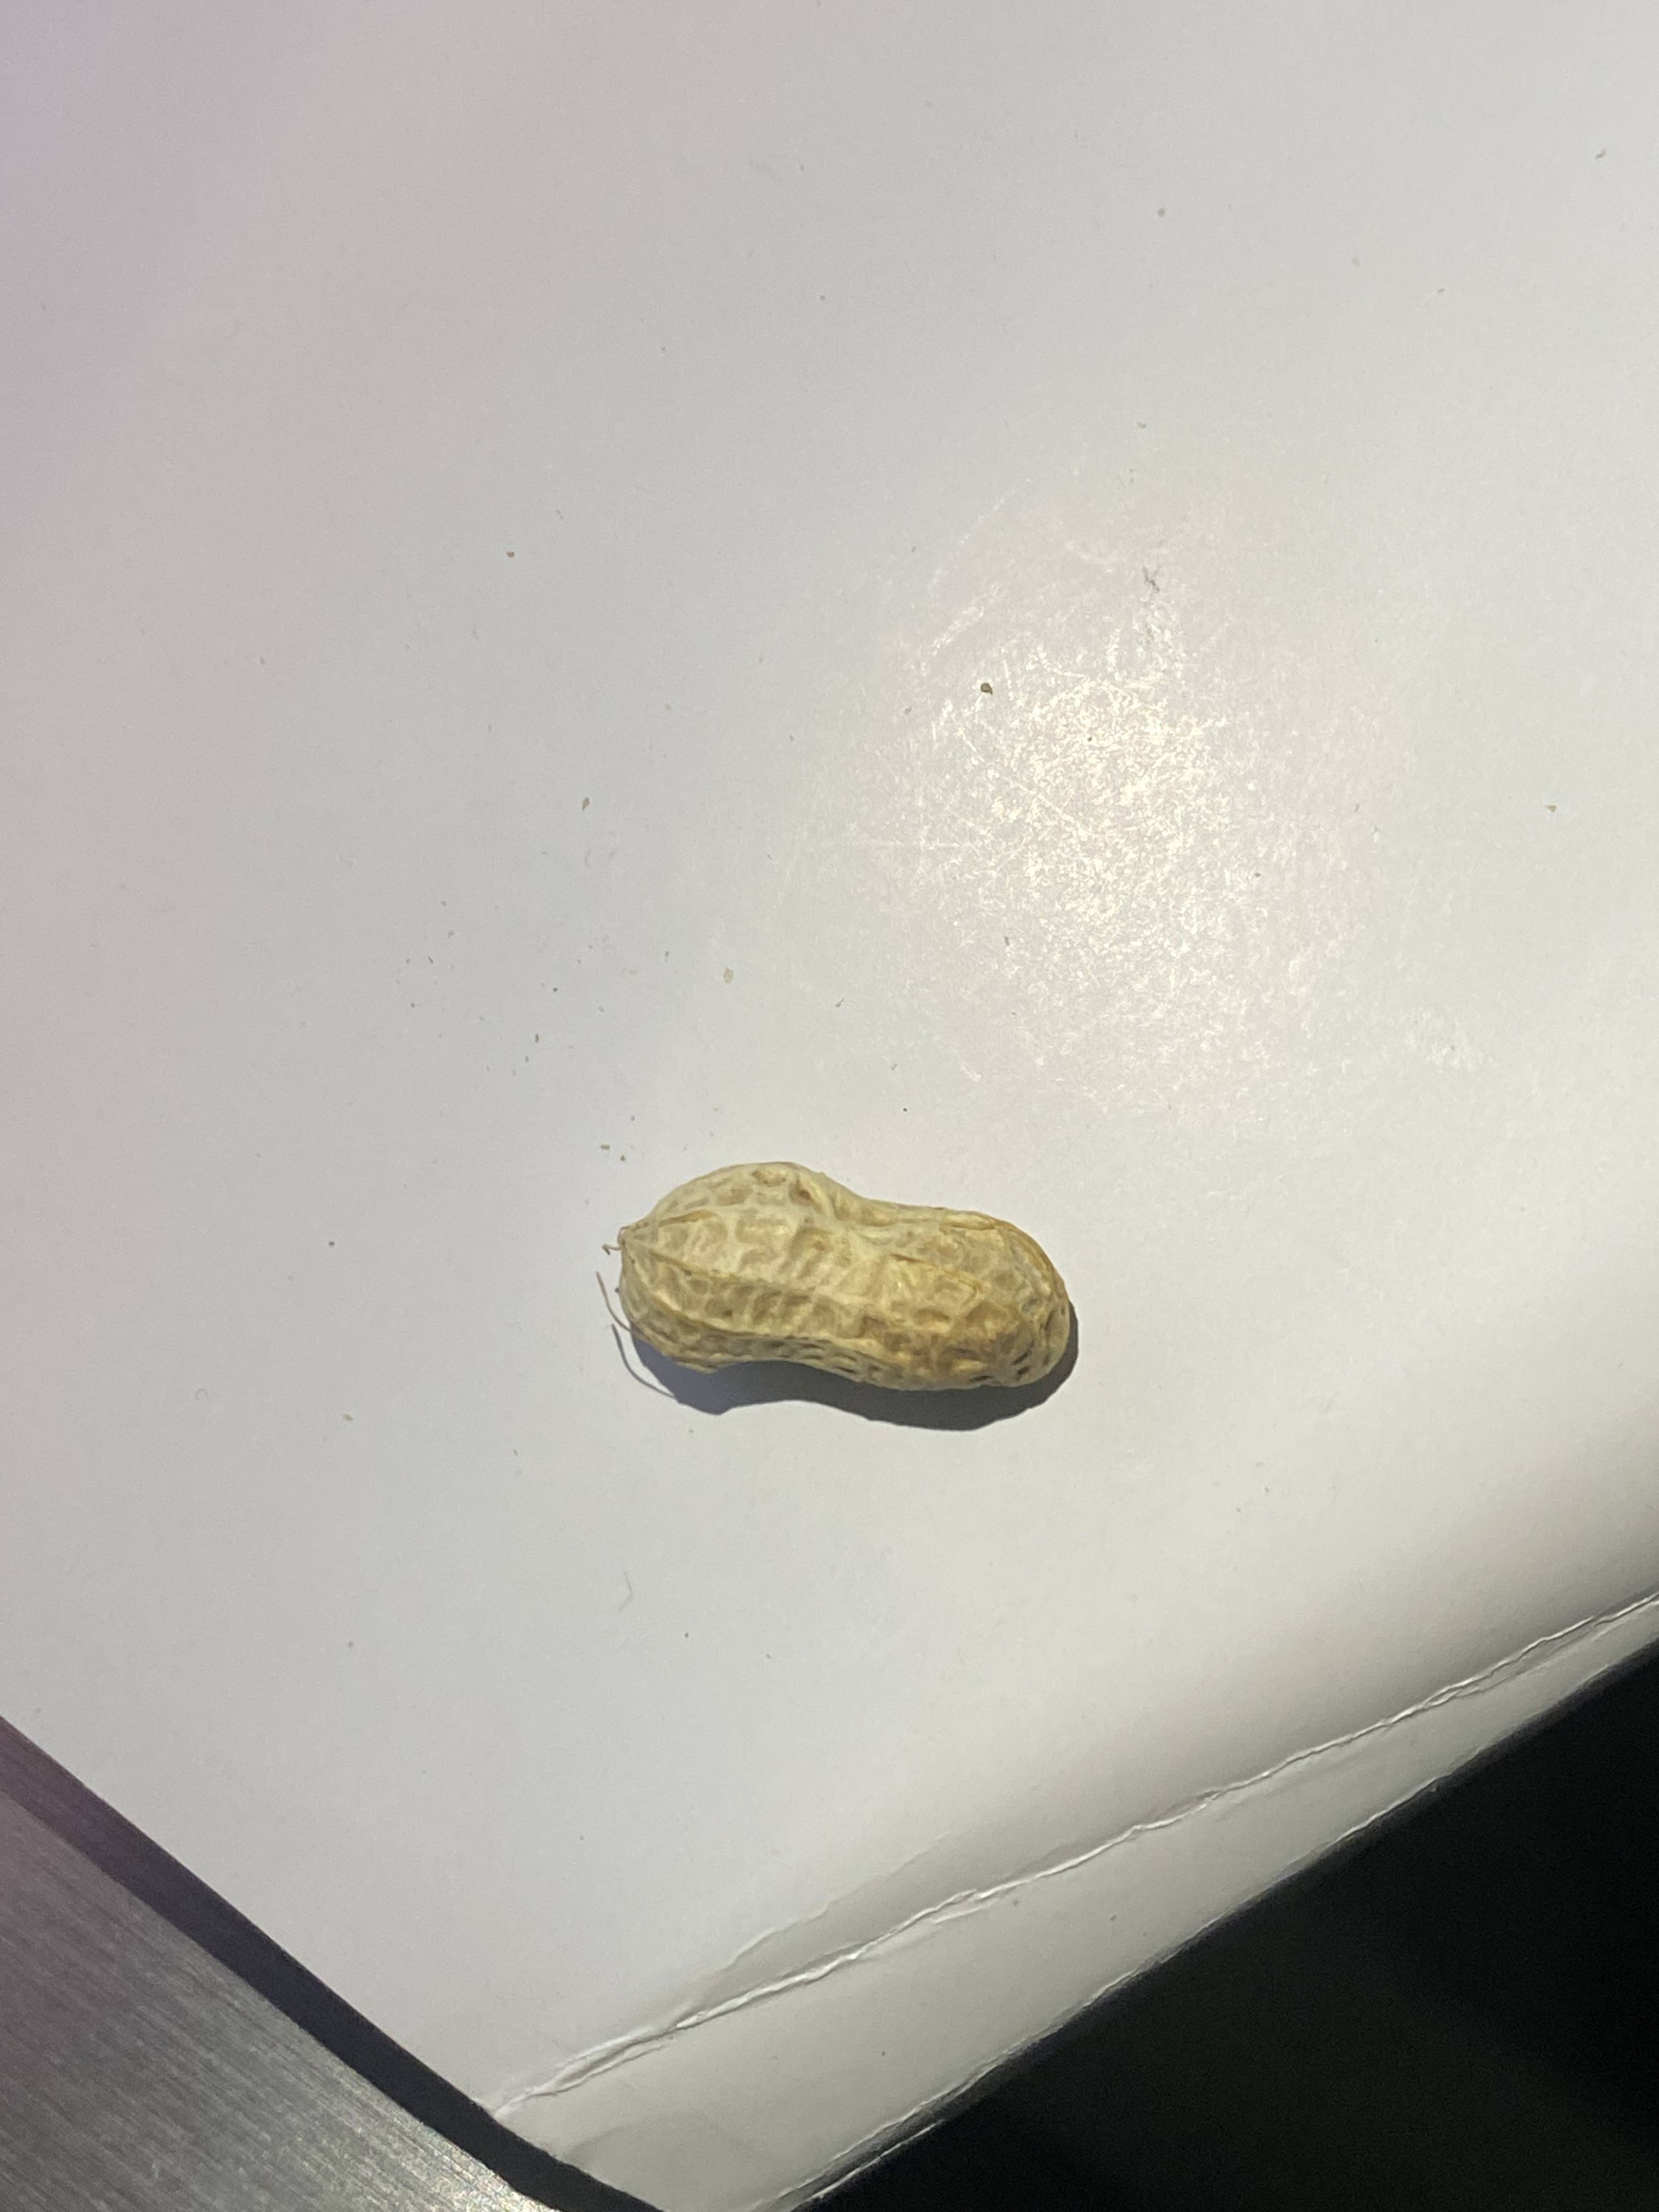kacang2: (580, 1130, 1087, 1442)
